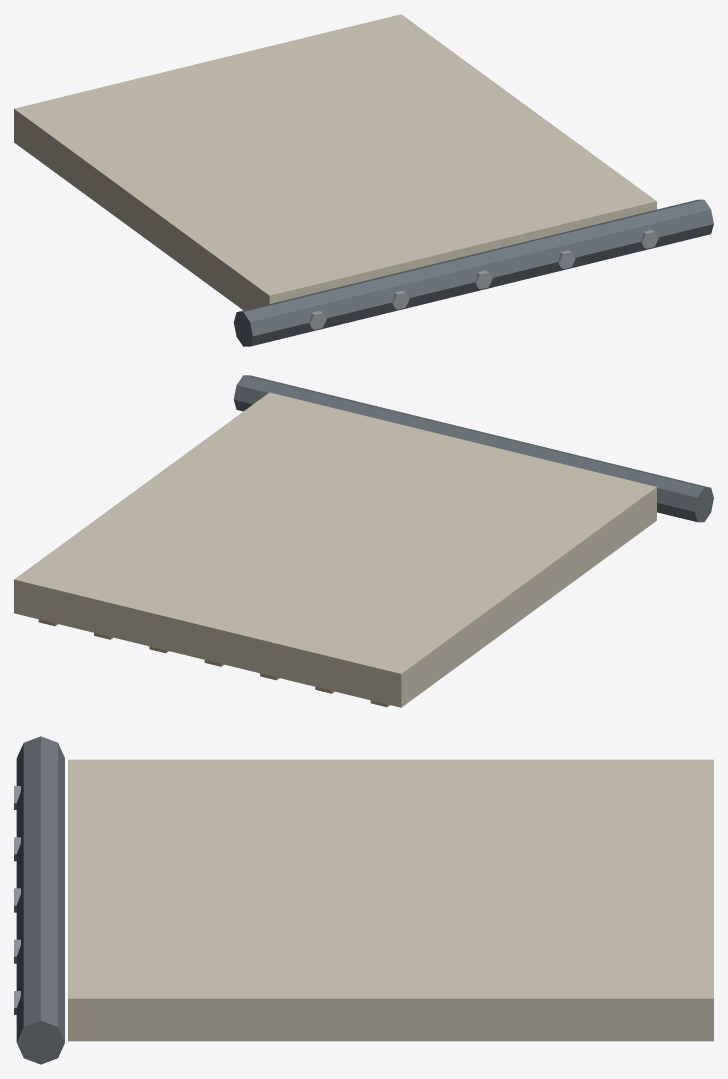
File: curtain.glb
3 views of the same model, one above another, from view 1: azimuth 30°, elevation 25°; view 2: azimuth 150°, elevation 25°; view 3: azimuth 270°, elevation 25° (orthographic). The views are drawn at different scales.
Parts seen in each view (by area): view 1: 00_curtain_panel, 08_curtain_rod; view 2: 00_curtain_panel, 08_curtain_rod; view 3: 00_curtain_panel, 08_curtain_rod.
Part boxes in pixels (<box>): 00_curtain_panel: <box>14,14,656,310</box>; 08_curtain_rod: <box>233,199,713,346</box>; 00_curtain_panel: <box>14,392,656,707</box>; 08_curtain_rod: <box>233,375,713,522</box>; 00_curtain_panel: <box>68,759,713,1041</box>; 08_curtain_rod: <box>16,736,64,1064</box>.
Bounding box in the file's own units: 0.5 × 0.044 × 0.52.
